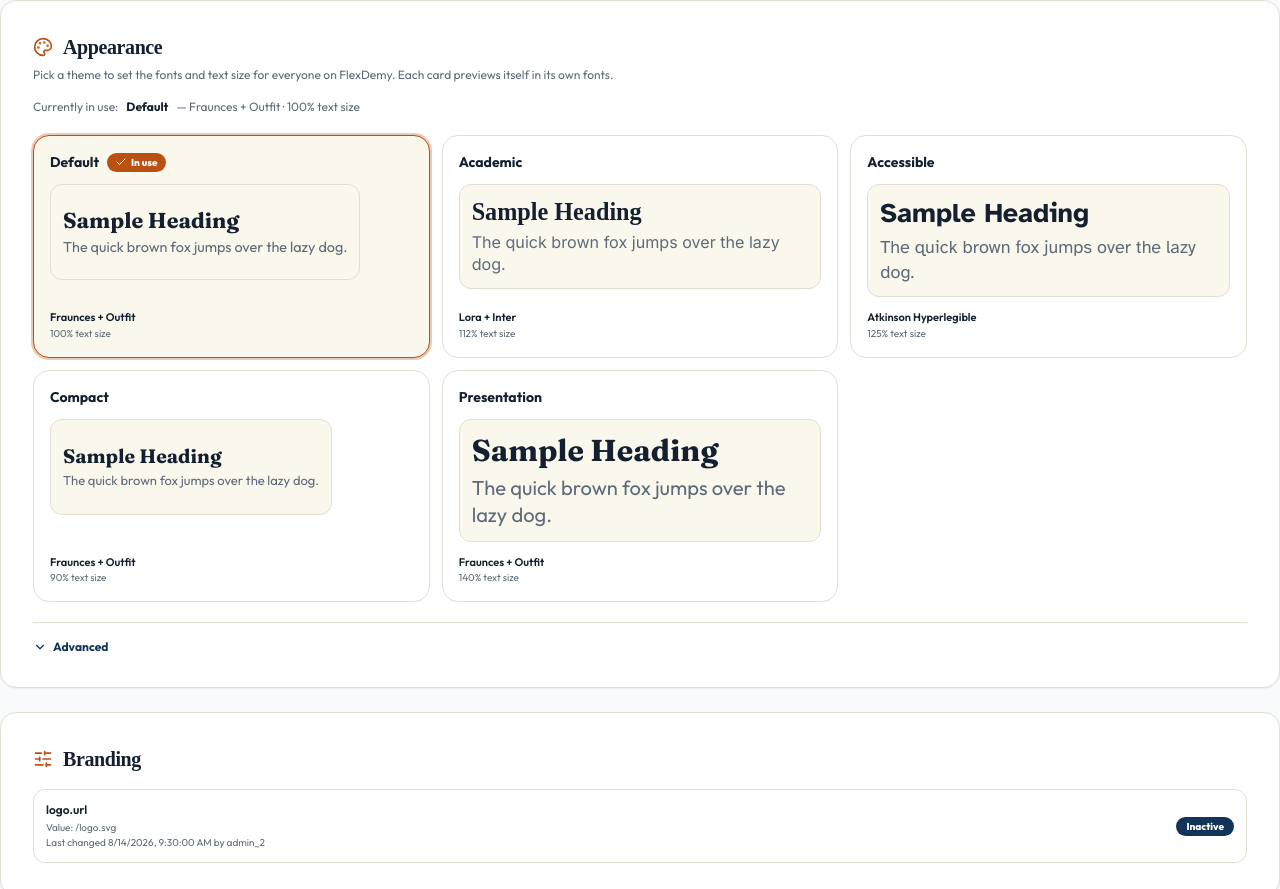
Test case: Settings › surfaces an applyTypographyCombination rejection via role="alert"
Click the button with aria-label "Apply the Academic theme". click: (640, 246)
box: [442,135,838,358]
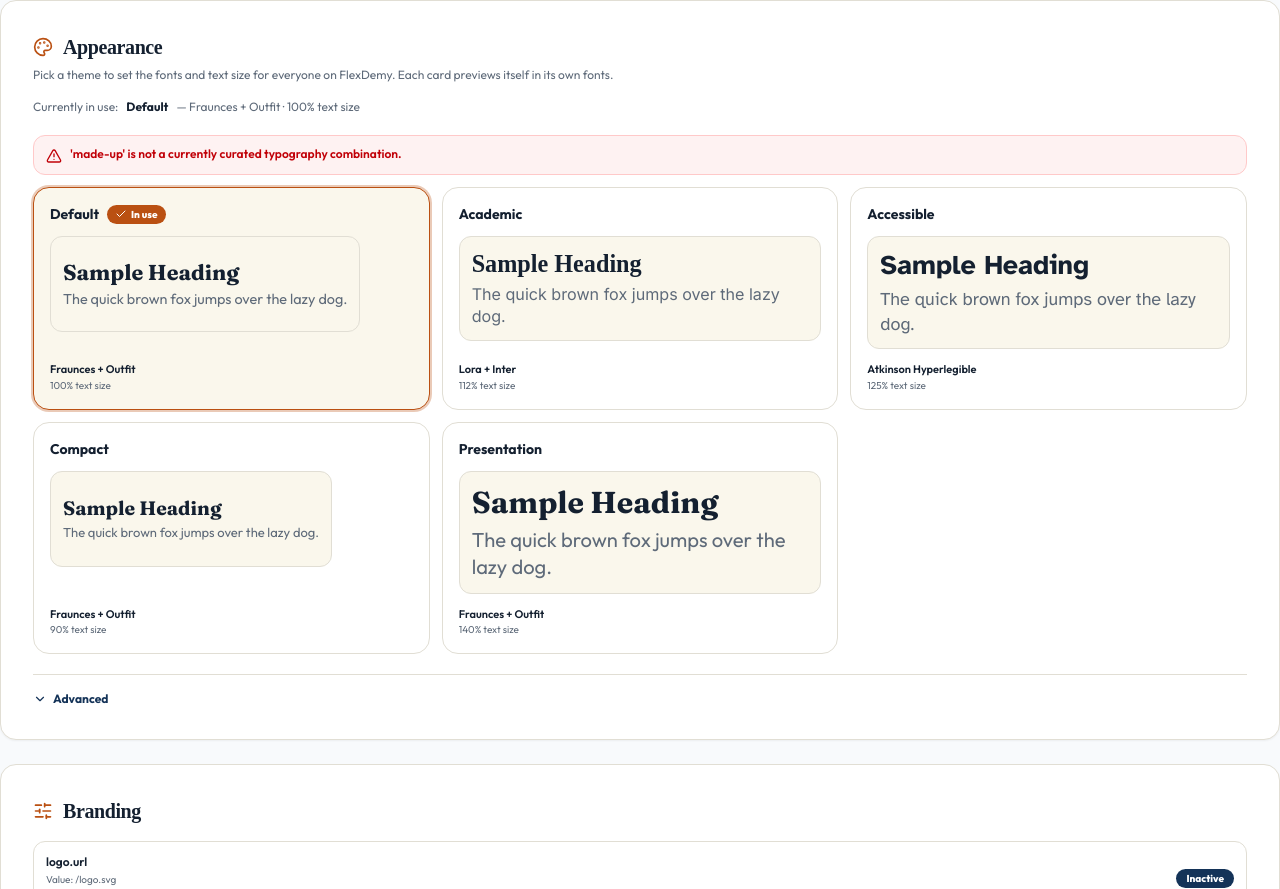
expect the message reads "'made-up' is not a currently curated typography combination.": met, box [70,146,402,161]
